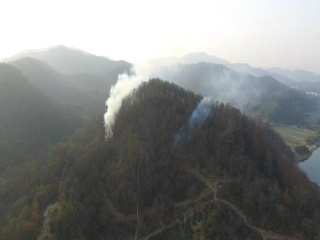smoke: (98, 62, 149, 143), (176, 90, 219, 143)
